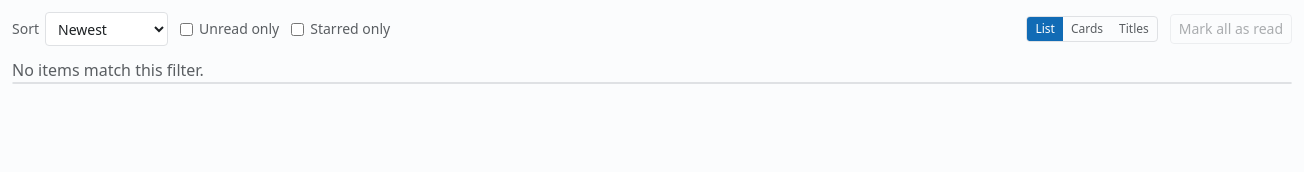
Scenario: Reader › says "All caught up." when the unread filter empties the list
Expected: the text "No items match this filter." is shown, [12,59,204,81]
Click the checkbox labelled "Unread only" at (186, 29), box [180,23,193,36]
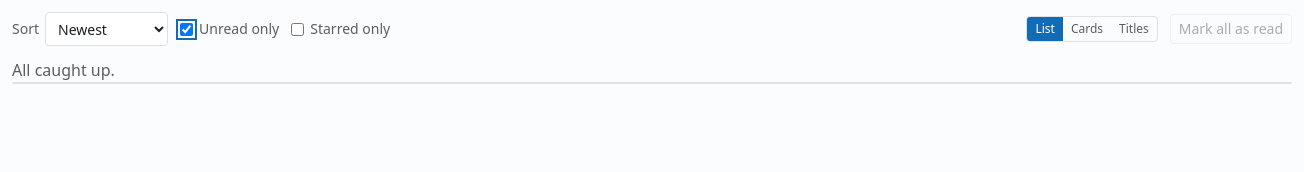
Expected: the text "All caught up." is shown, [12,59,115,81]
